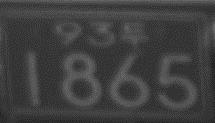1: (19, 50, 51, 106)
3: (85, 20, 113, 48)
5: (156, 54, 197, 109)
6: (109, 51, 150, 108)
8: (61, 50, 101, 108)
9: (55, 20, 81, 46)
두: (121, 20, 148, 46)
